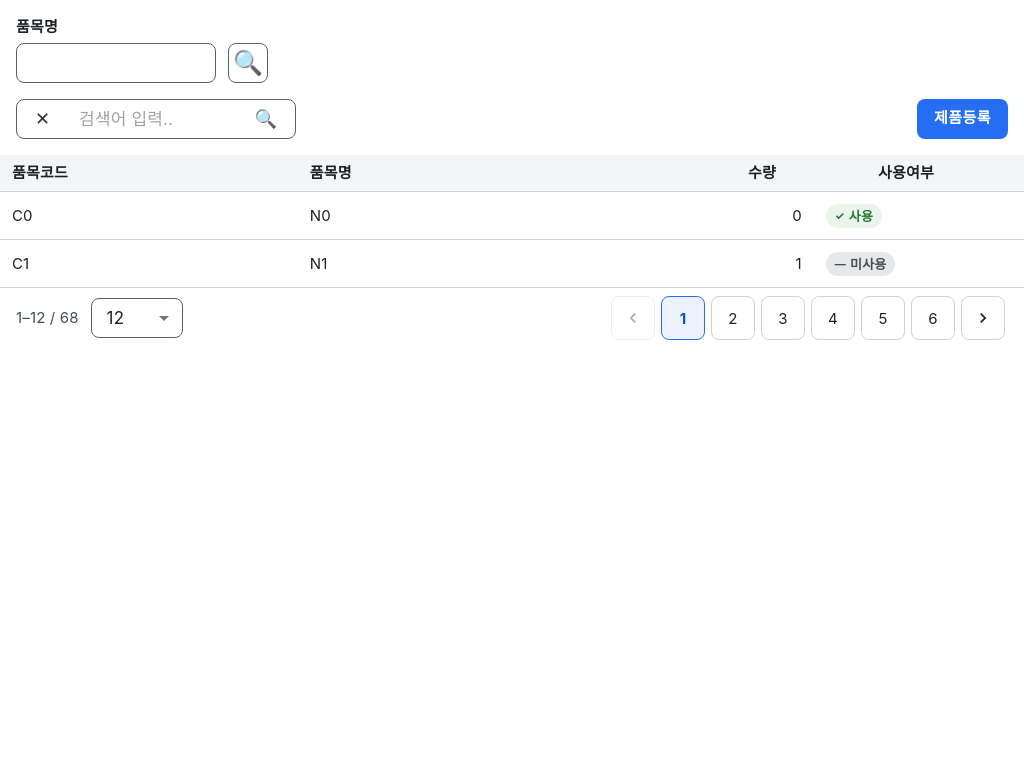
Scenario: MjGrid (dialog mode) › row click opens the edit form prefilled; add opens an empty insert form
The image size is (1024, 768).
Click the column heading "C1": (149, 264) [0, 240, 298, 288]
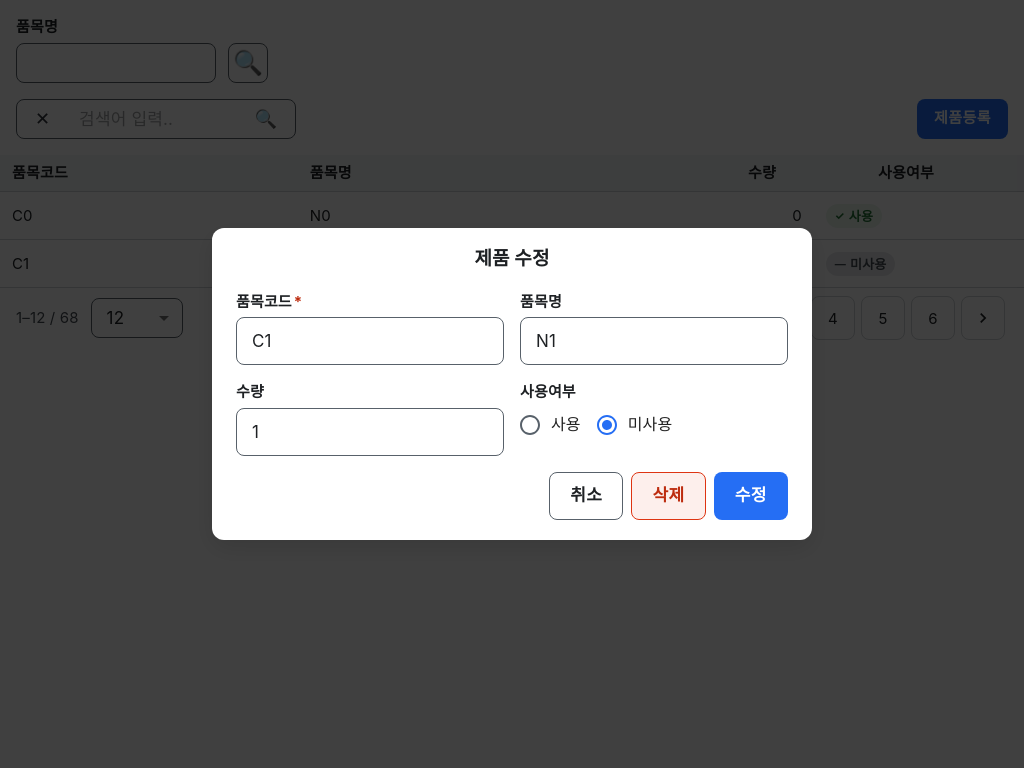
Result: the heading "제품 수정" is shown at [474, 247, 550, 270]
Result: the field labelled "품목코드*" holds "C1" at [236, 317, 504, 365]
Click the button "취소": (586, 496) [549, 472, 624, 520]
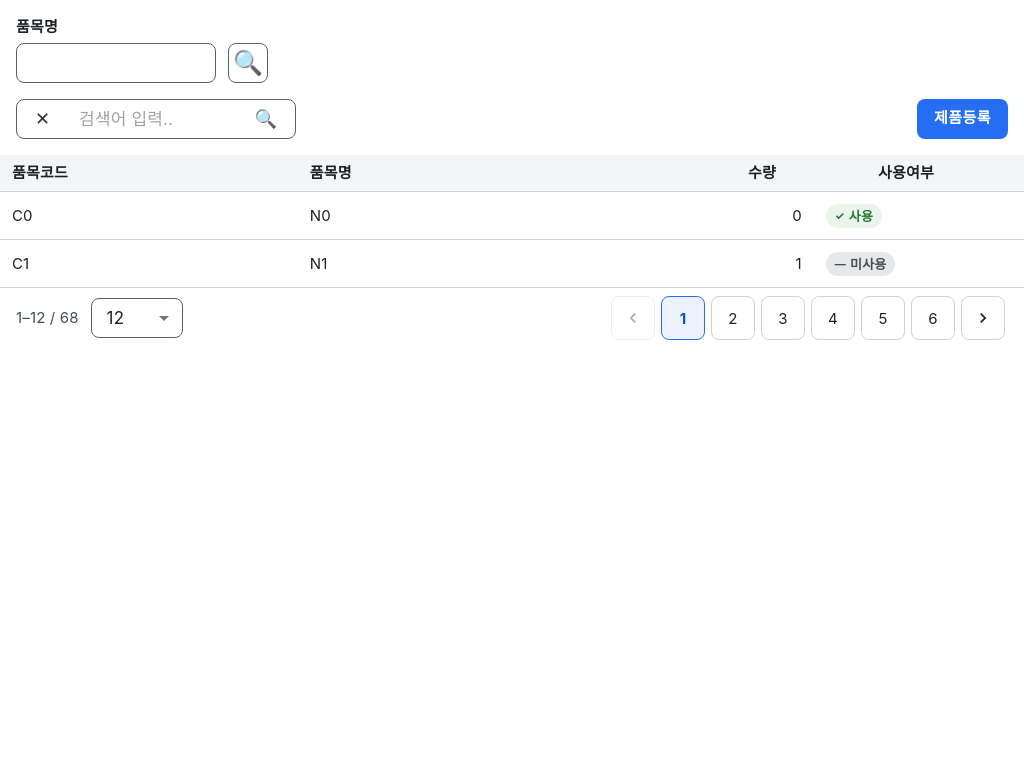
Result: the dialog is gone
Click the button "제품등록": (963, 118) [917, 98, 1008, 138]
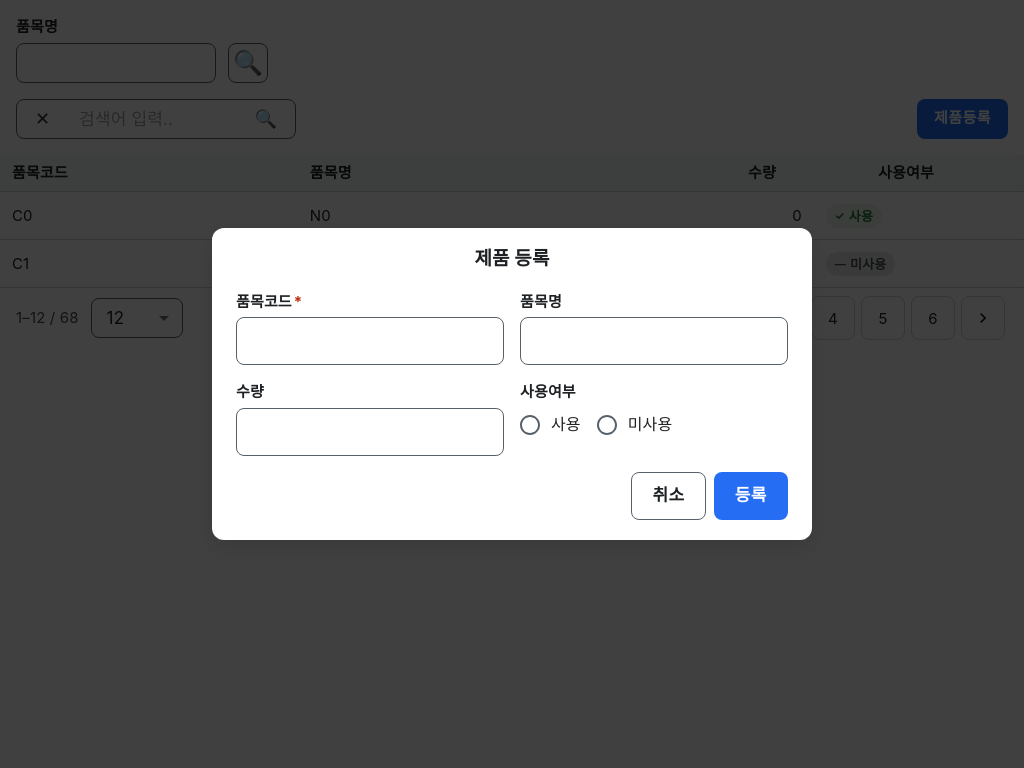
Expected: the field labelled "품목코드*" is empty, [236, 317, 504, 365]
Result: the heading "제품 등록" is shown at [474, 247, 550, 270]
